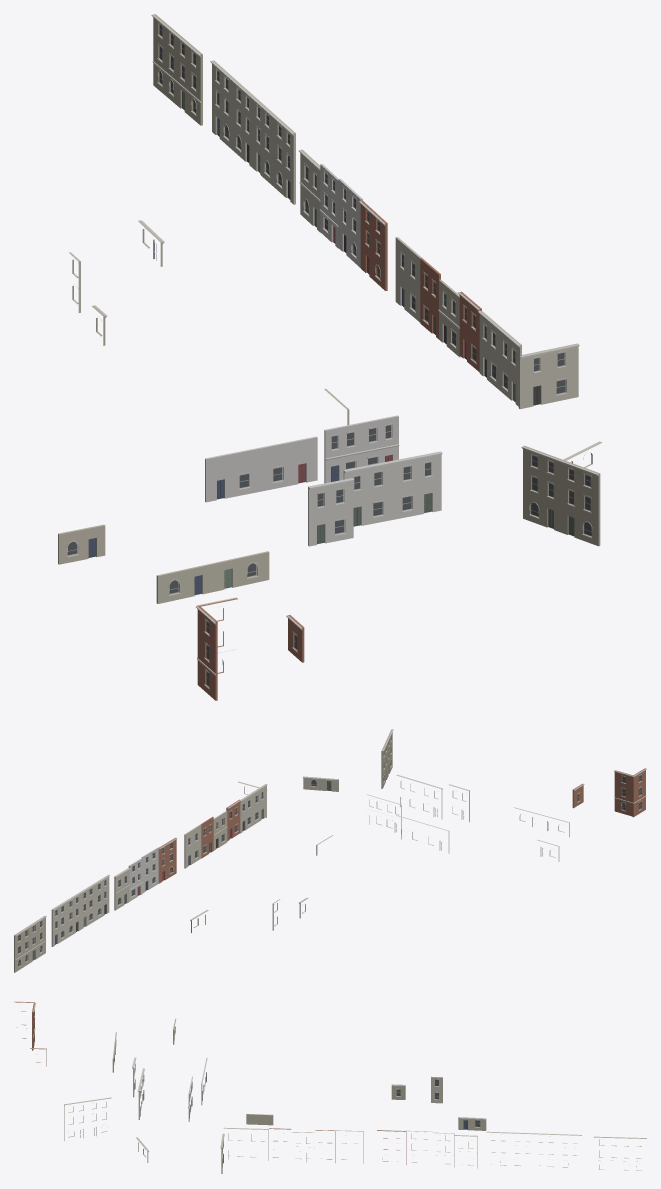
The picture shows the model from 3 angles, top to bottom: view 1: azimuth 30°, elevation 25°; view 2: azimuth 150°, elevation 25°; view 3: azimuth 270°, elevation 25°; orthographic projection. The views are drawn at different scales.
Parts seen in each view (by area): view 1: f:way/170216457, f:way/170216471, f:way/170216391, f:way/579045606, f:way/170216412, f:way/166374879, f:way/170216446, f:way/93136311, f:way/579045587, f:way/579045591, f:way/579045583, f:way/579045576 (+4 smaller); view 2: f:way/170216391, f:way/93136311, f:way/170216446, f:way/579045606, f:way/579045587, f:way/579045583, f:way/579045591, f:way/579045576, f:way/579045579, f:way/170216412, f:way/579045602, f:way/579045598 (+4 smaller); view 3: f:way/170216410, f:way/170216471, f:way/170216417, f:way/170216420, f:way/170216391, f:way/170216457, f:way/579045606, f:way/170216412.
Boxes of the visible parts, x1,y1,x2,y2 form: f:way/170216457: (205, 415, 399, 502); f:way/170216471: (308, 451, 442, 546); f:way/170216391: (210, 60, 295, 204); f:way/579045606: (477, 310, 579, 409); f:way/170216412: (521, 445, 600, 546); f:way/166374879: (58, 524, 269, 603); f:way/170216446: (151, 14, 202, 125); f:way/93136311: (196, 597, 304, 700); f:way/579045587: (359, 200, 387, 290); f:way/579045591: (395, 237, 421, 322); f:way/579045583: (338, 178, 362, 267); f:way/579045576: (298, 149, 320, 232); f:way/170216391: (51, 875, 109, 946); f:way/93136311: (572, 768, 646, 817); f:way/170216446: (14, 916, 46, 972); f:way/579045606: (238, 781, 267, 833); f:way/579045587: (158, 837, 177, 883); f:way/579045583: (141, 847, 158, 892); f:way/579045591: (184, 824, 201, 868); f:way/579045576: (114, 868, 130, 910); f:way/579045579: (128, 858, 142, 901); f:way/170216412: (381, 729, 393, 788); f:way/579045602: (226, 799, 241, 840); f:way/579045598: (213, 811, 227, 850); f:way/170216410: (458, 1117, 486, 1130); f:way/170216471: (132, 1057, 144, 1119); f:way/170216417: (431, 1076, 442, 1103); f:way/170216420: (246, 1114, 273, 1125); f:way/170216391: (486, 1131, 581, 1167); f:way/170216457: (188, 1058, 207, 1121); f:way/579045606: (220, 1127, 268, 1173); f:way/170216412: (64, 1097, 111, 1140).
Bounding box in the file's own units: 69.46 × 10.05 × 133.
